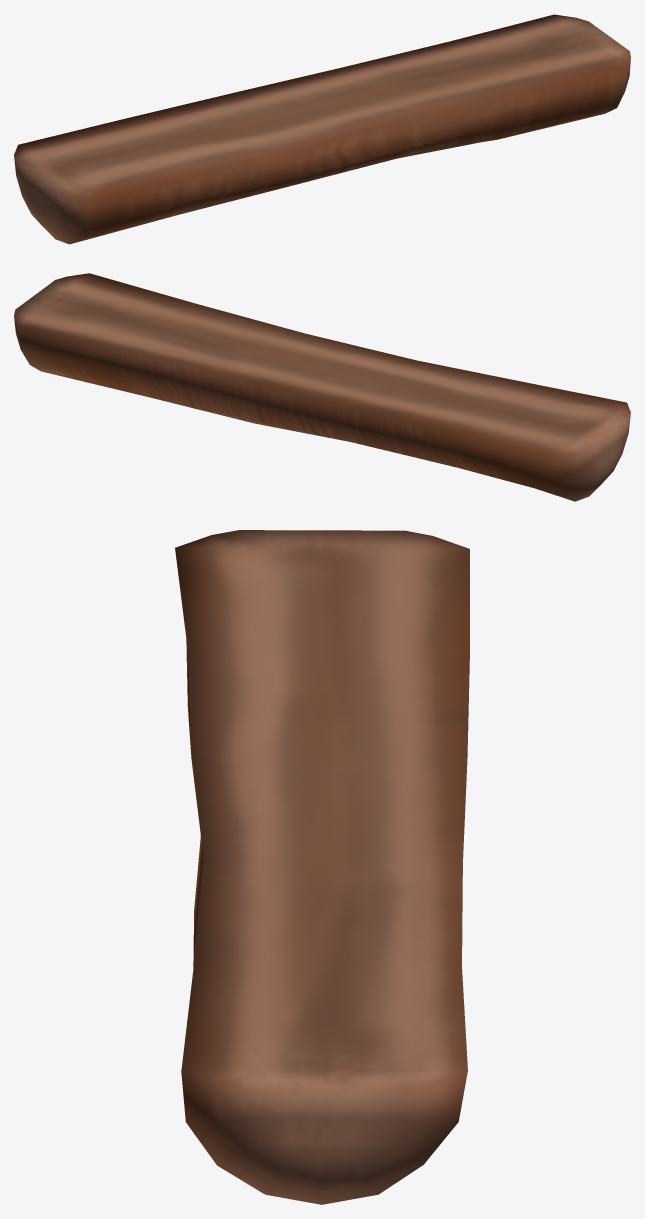
The model's file is Log2.fbx.
3 renders of one model, top to bottom at view 1: azimuth 30°, elevation 25°; view 2: azimuth 150°, elevation 25°; view 3: azimuth 270°, elevation 25°, orthographic. The views are drawn at different scales.
Visible parts, largest first — view 1: Log2; view 2: Log2; view 3: Log2.
Part boxes in pixels (x1,y1,x2,y2): Log2: [14, 14, 630, 244]; Log2: [14, 273, 630, 501]; Log2: [175, 530, 469, 1204].
Size of the model in its own units: 209 by 23.48 by 46.65.
